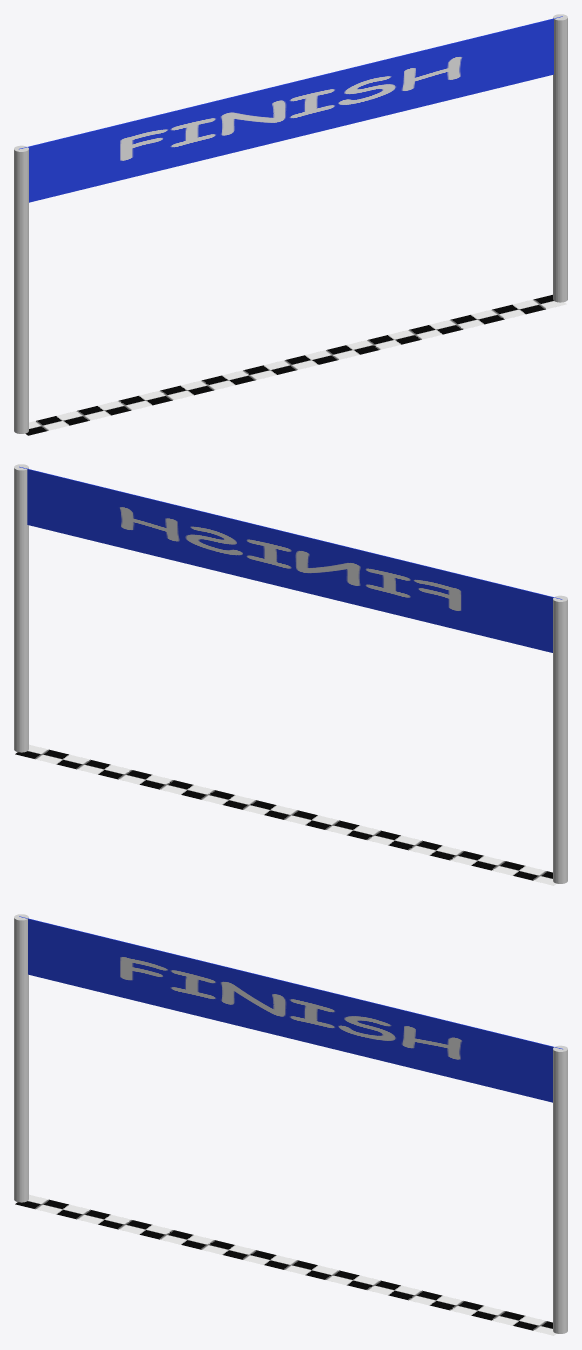
File: finish.fbx
The picture shows the model from 3 angles, top to bottom: view 1: azimuth 30°, elevation 25°; view 2: azimuth 150°, elevation 25°; view 3: azimuth 330°, elevation 25°; orthographic projection.
Visible parts, largest first — view 1: Flag, Cylinder, Line; view 2: Flag, Cylinder, Line; view 3: Flag, Cylinder, Line.
Boxes of the visible parts, left/top/right/bottom form: Flag: left=19, top=16, right=562, bottom=202; Cylinder: left=14, top=14, right=567, bottom=433; Line: left=25, top=294, right=566, bottom=435; Flag: left=19, top=466, right=562, bottom=652; Cylinder: left=14, top=464, right=567, bottom=883; Line: left=15, top=744, right=556, bottom=885; Flag: left=19, top=916, right=562, bottom=1102; Cylinder: left=14, top=914, right=567, bottom=1333; Line: left=15, top=1194, right=556, bottom=1335.
Size of the model in its own units: 1024 by 43.11 by 500.
